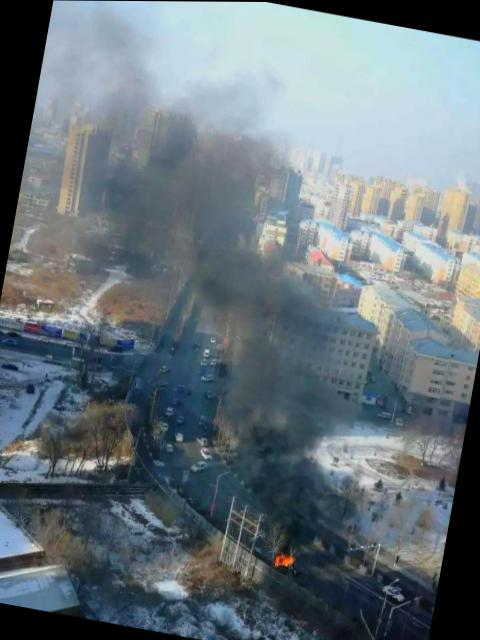fire: (268, 545, 299, 576)
